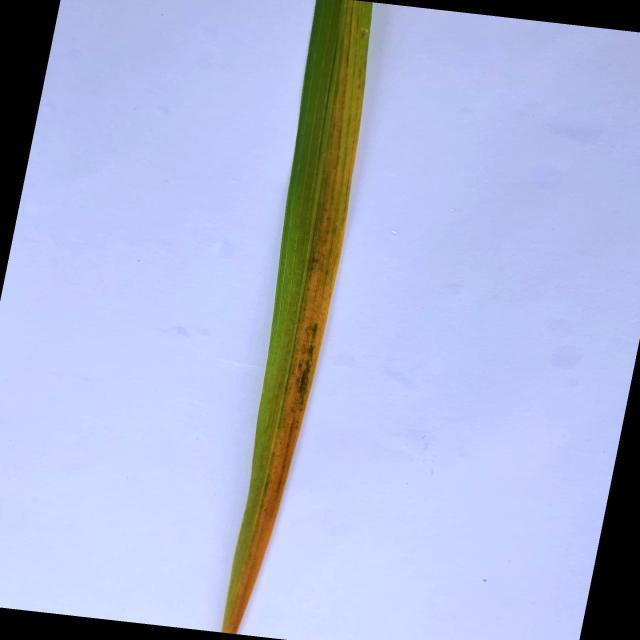Rice Tungro: (224, 0, 378, 633)
